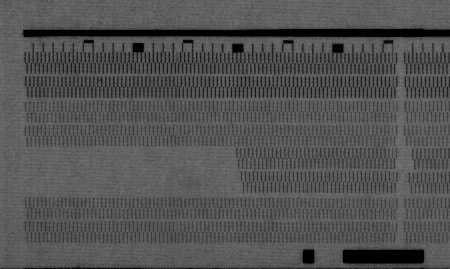Broken hole: (22, 145, 245, 195), (402, 148, 415, 173), (402, 172, 412, 195)
